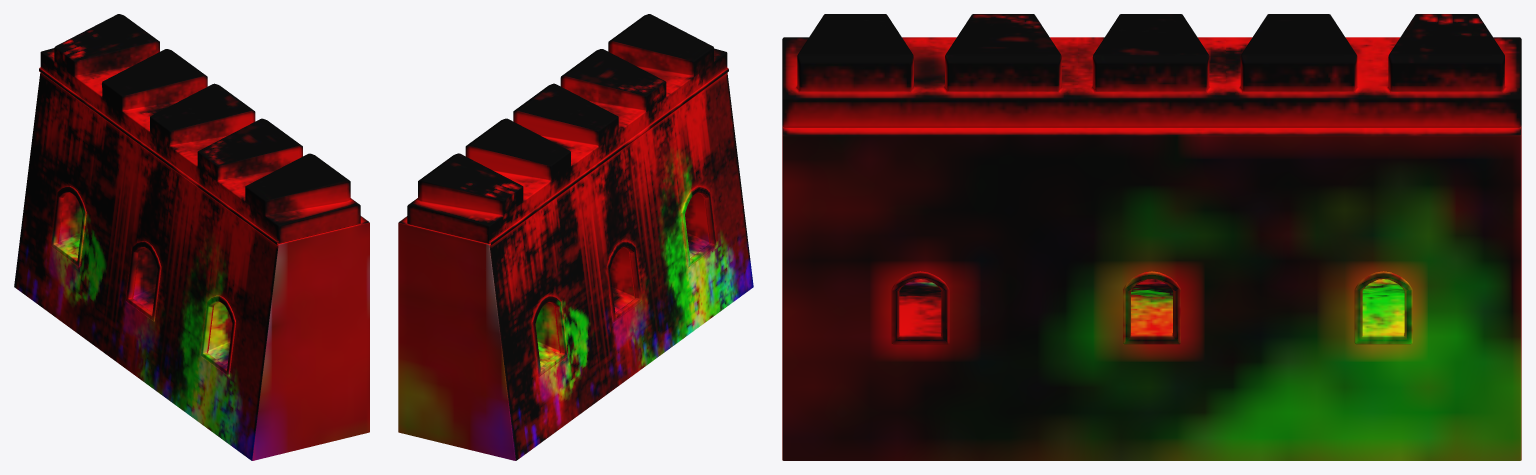
File: wall_thick_curved.glb
3 views of the same model, side by side, from view 1: azimuth 30°, elevation 25°; view 2: azimuth 150°, elevation 25°; view 3: azimuth 270°, elevation 25° (orthographic). The views are drawn at different scales.
Visible parts, largest first — view 1: modular_fort_01_wall_thick_straight_02; view 2: modular_fort_01_wall_thick_straight_02; view 3: modular_fort_01_wall_thick_straight_02.
Boxes of the visible parts, left/top/right/bottom form: modular_fort_01_wall_thick_straight_02: left=14, top=14, right=369, bottom=460; modular_fort_01_wall_thick_straight_02: left=398, top=14, right=753, bottom=460; modular_fort_01_wall_thick_straight_02: left=782, top=14, right=1521, bottom=460.
Size of the model in its own units: 4.23 by 8.52 by 14.56.
2 materials, 2 textured.
